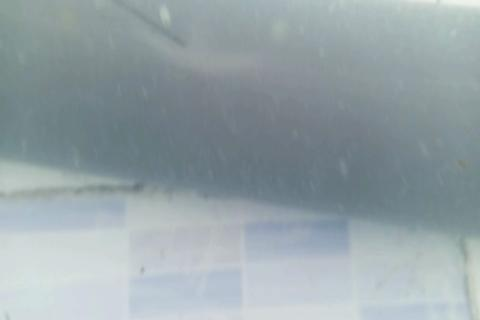keretakan: (113, 0, 190, 54)
